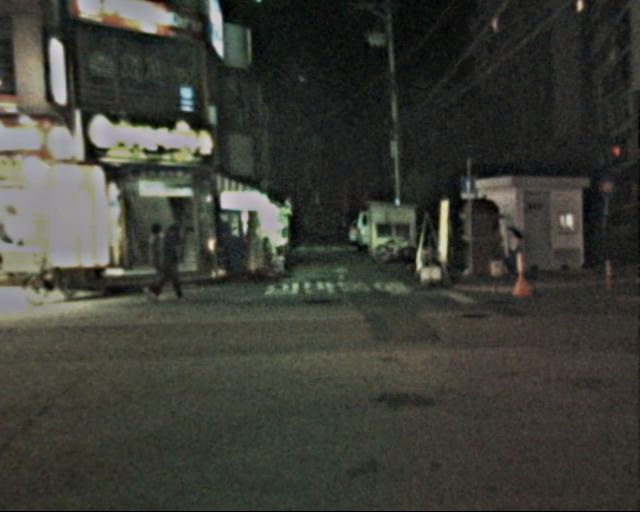person: (154, 223, 187, 302), (491, 213, 521, 292), (327, 212, 351, 245)
